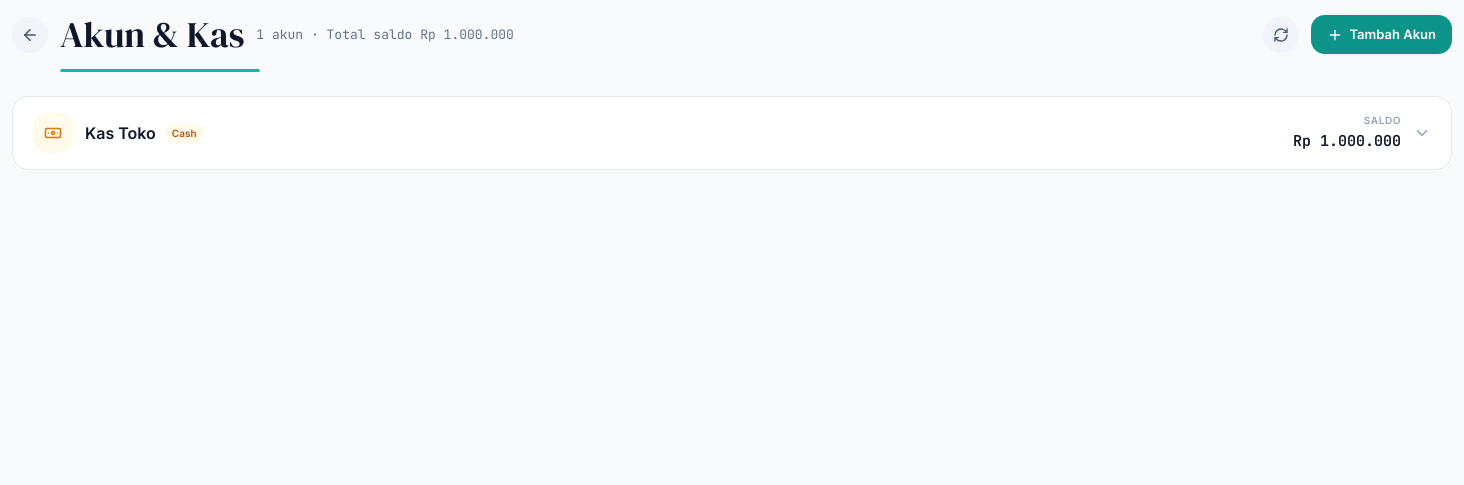
AkunKas page › loads and displays ledger entries when an account is expanded (Req 9.4)
Step 1. Click the button "Kas Toko Cash Saldo Rp 1.000.000" → (53, 133), box [13, 97, 1451, 169]
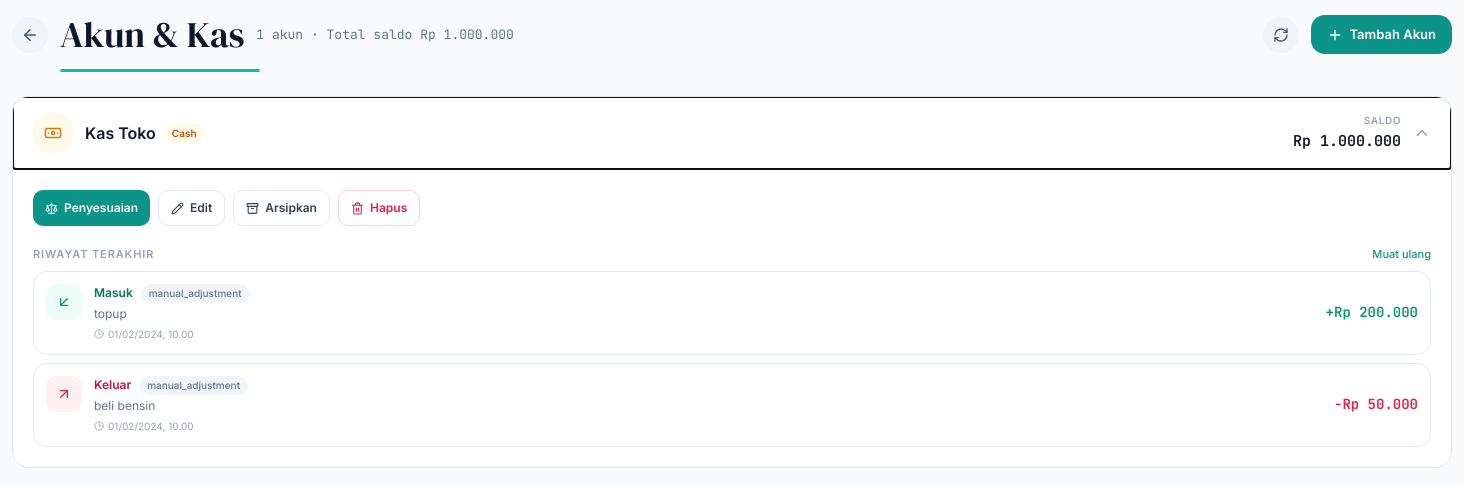
Check: the text "topup" is shown, box [94, 306, 127, 320]
Check: the text "beli bensin" is shown, box [94, 398, 155, 412]
Check: the text "Masuk" is shown, box [94, 284, 133, 302]
